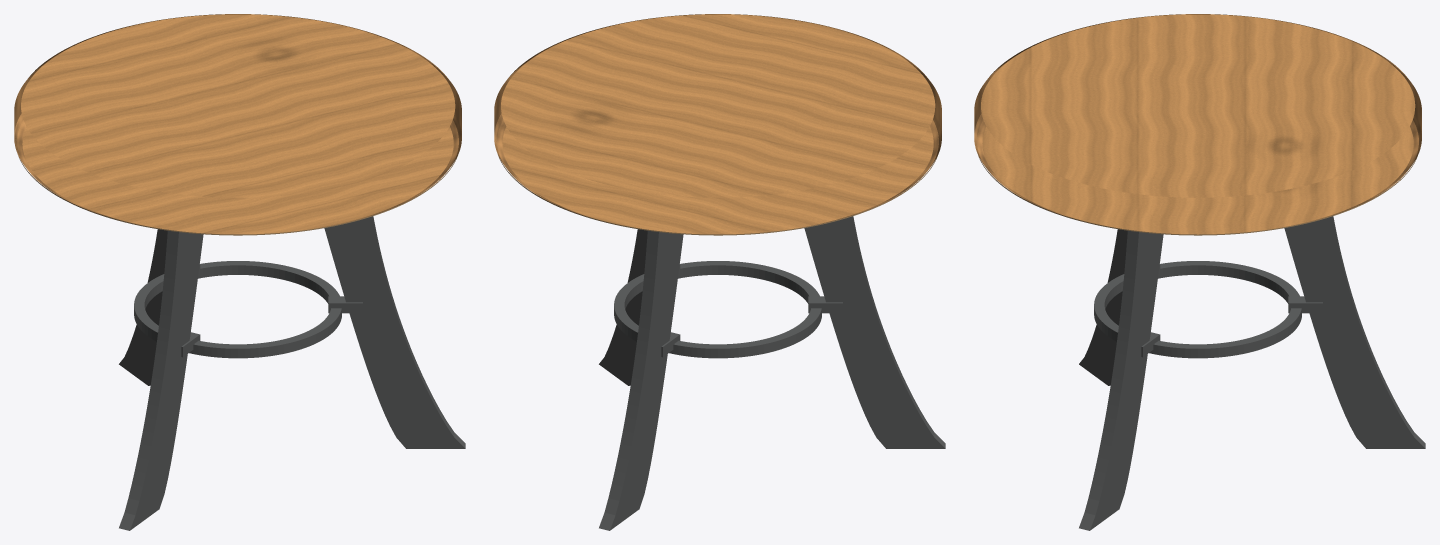
Rendered from personal-coffee-showroom-v2.glb.
3 views of the same model, side by side, from view 1: azimuth 30°, elevation 25°; view 2: azimuth 150°, elevation 25°; view 3: azimuth 270°, elevation 25° (orthographic).
Parts seen in each view (by area): view 1: top_wood_face_round, wood_underside, curved_black_laser_cut_leg_3, curved_black_laser_cut_leg_2, circular_black_bracing_ring, thick_oak_tabletop_edge, curved_black_laser_cut_leg_1, timber_edge_joint; view 2: top_wood_face_round, wood_underside, curved_black_laser_cut_leg_2, curved_black_laser_cut_leg_1, circular_black_bracing_ring, thick_oak_tabletop_edge, curved_black_laser_cut_leg_3, timber_edge_joint; view 3: top_wood_face_round, wood_underside, curved_black_laser_cut_leg_1, curved_black_laser_cut_leg_3, circular_black_bracing_ring, thick_oak_tabletop_edge, curved_black_laser_cut_leg_2, timber_edge_joint.
Part boxes in pixels (x1,y1,x2,y2): top_wood_face_round: (21, 14, 455, 197); wood_underside: (22, 126, 453, 234); curved_black_laser_cut_leg_3: (324, 216, 465, 448); curved_black_laser_cut_leg_2: (119, 230, 203, 530); circular_black_bracing_ring: (134, 261, 341, 358); thick_oak_tabletop_edge: (14, 14, 461, 226); curved_black_laser_cut_leg_1: (119, 229, 167, 385); timber_edge_joint: (18, 156, 457, 235); top_wood_face_round: (501, 14, 935, 197); wood_underside: (502, 126, 933, 234); curved_black_laser_cut_leg_2: (804, 216, 945, 448); curved_black_laser_cut_leg_1: (599, 230, 683, 530); circular_black_bracing_ring: (614, 261, 821, 358); thick_oak_tabletop_edge: (494, 14, 941, 226); curved_black_laser_cut_leg_3: (599, 229, 647, 385); timber_edge_joint: (498, 156, 937, 235); top_wood_face_round: (981, 14, 1415, 197); wood_underside: (982, 126, 1413, 234); curved_black_laser_cut_leg_1: (1284, 216, 1425, 448); curved_black_laser_cut_leg_3: (1079, 230, 1163, 530); circular_black_bracing_ring: (1094, 261, 1301, 358); thick_oak_tabletop_edge: (974, 14, 1421, 225); curved_black_laser_cut_leg_2: (1079, 229, 1127, 385); timber_edge_joint: (978, 156, 1417, 235).
Bounding box in the file's own units: 0.594 × 0.498 × 0.599.
Materials: 4 (2 with a texture image).
